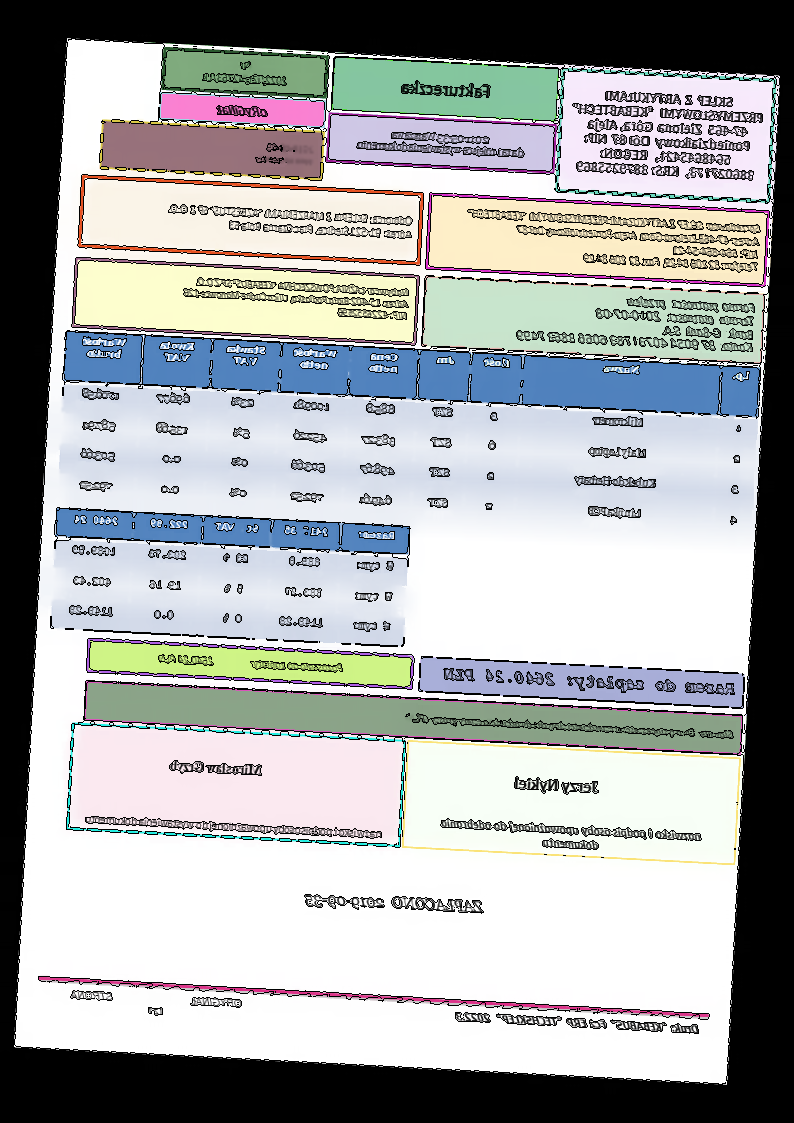Table: (55, 329, 763, 539), (49, 506, 412, 647)
TextBox: (465, 206, 764, 275), (567, 85, 767, 183), (515, 289, 759, 355), (182, 273, 412, 322), (403, 711, 736, 744), (166, 200, 415, 241), (442, 664, 738, 698), (454, 1008, 701, 1036), (354, 124, 528, 160), (68, 988, 245, 1021), (303, 889, 487, 918), (157, 651, 346, 675), (199, 55, 290, 89), (400, 77, 494, 101), (512, 774, 603, 797), (251, 140, 317, 169), (169, 758, 264, 778), (212, 101, 271, 119)
